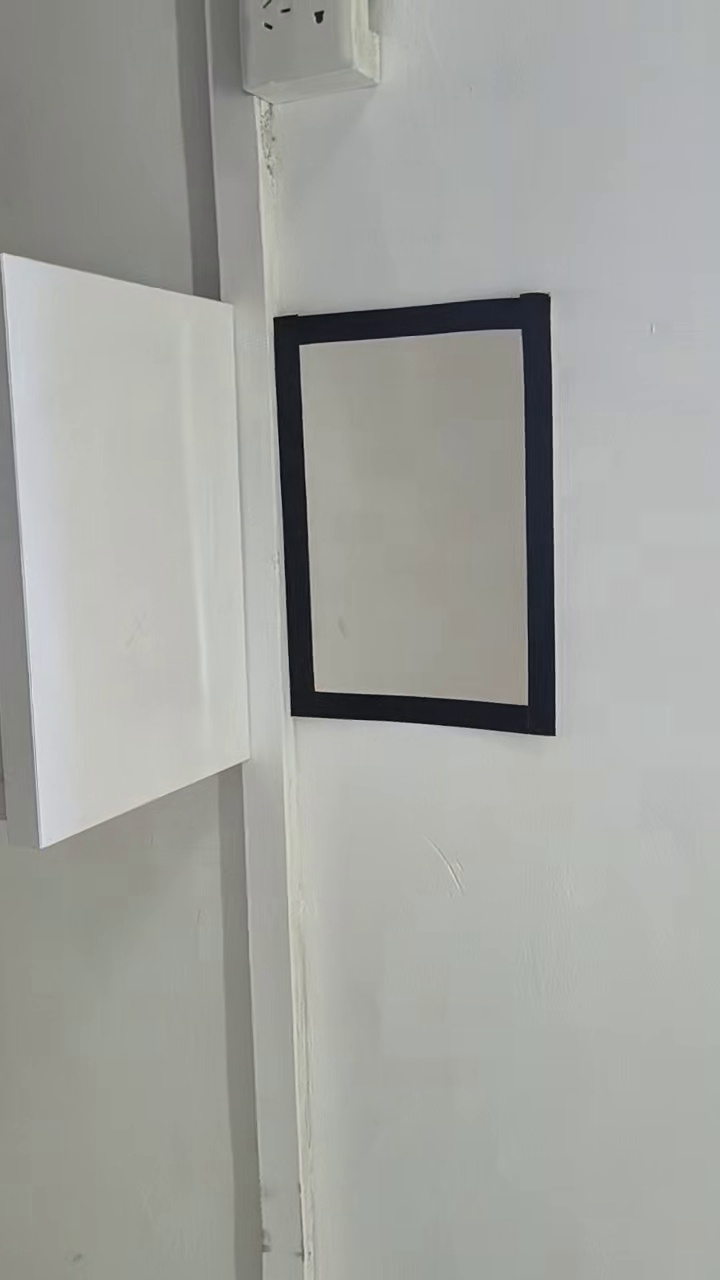board: (273, 297, 553, 737)
